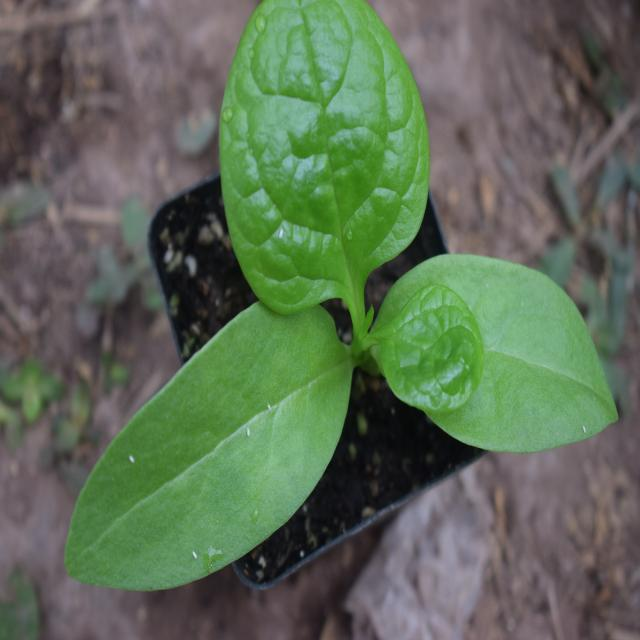Ceylon spinach: (91, 9, 612, 576)
